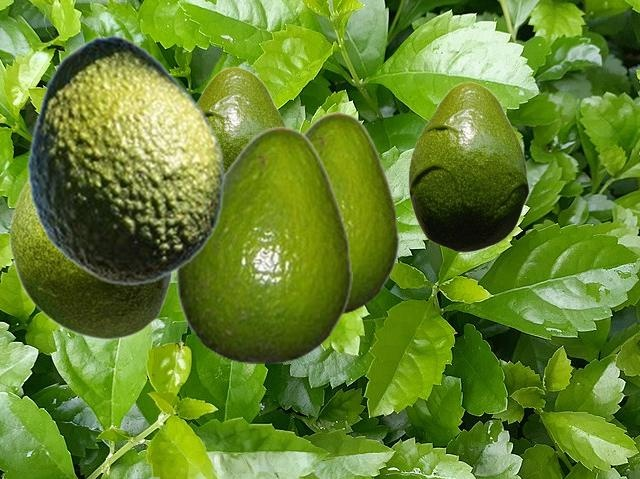avocado: (25, 34, 224, 285), (175, 125, 351, 362), (8, 180, 172, 340), (408, 81, 528, 251), (302, 111, 398, 314), (197, 66, 286, 170)
